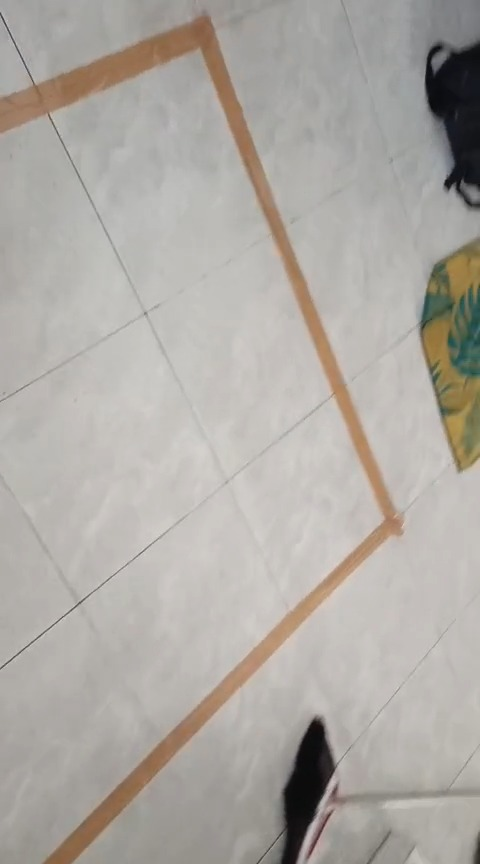floor marking: (0, 17, 402, 863)
